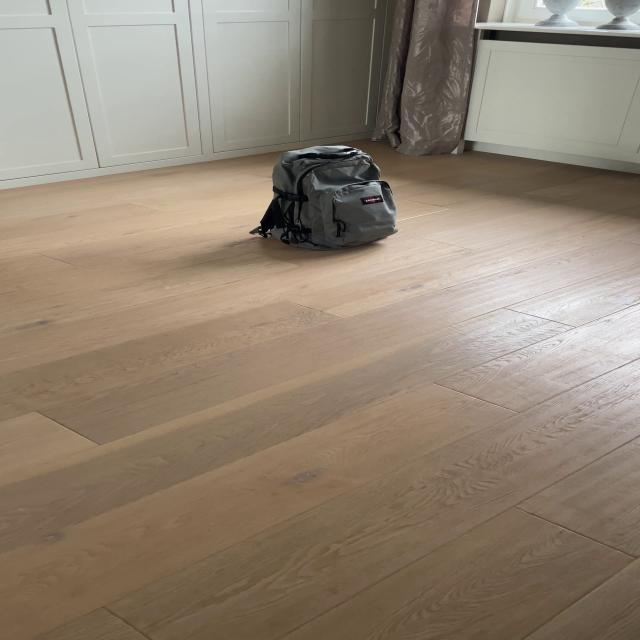backpack: (254, 141, 403, 254)
